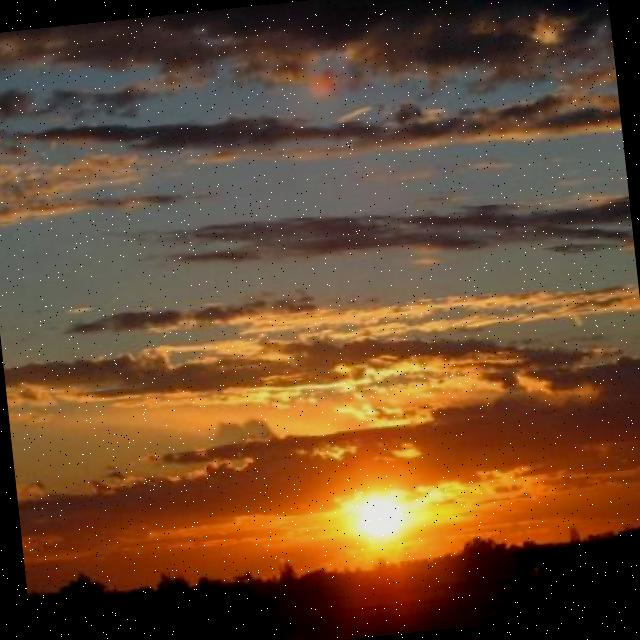Ac: (1, 1, 640, 547)
